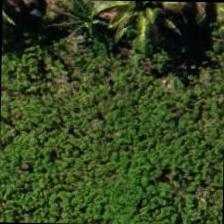Kelapa_Sawit: (104, 0, 196, 57)
